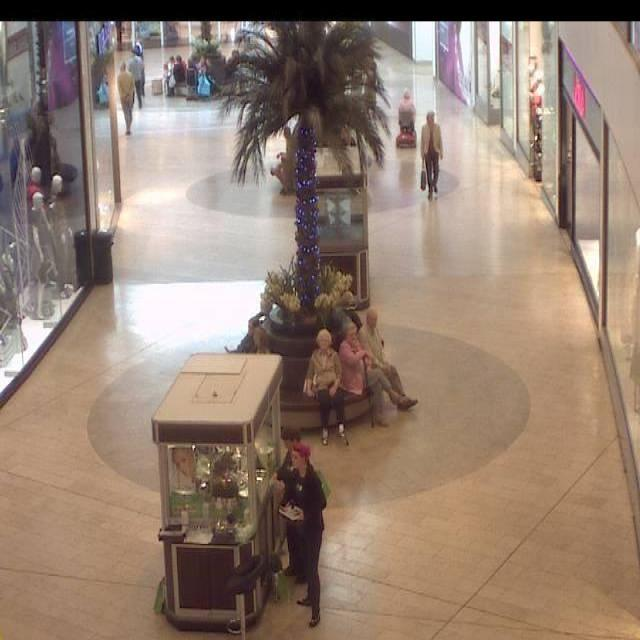person: (273, 444, 328, 628), (358, 308, 420, 416), (302, 330, 342, 445), (420, 111, 442, 196), (116, 62, 138, 137), (398, 94, 416, 141), (194, 57, 213, 99), (171, 55, 185, 93), (162, 60, 174, 95)
